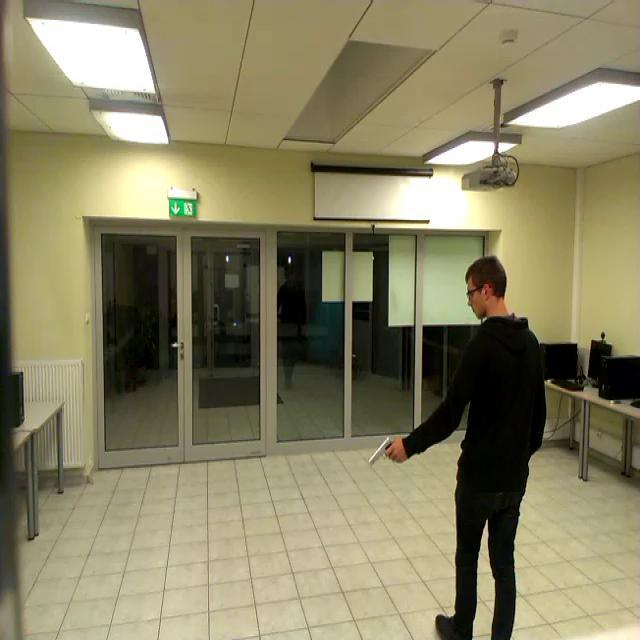Gun: (368, 436, 399, 464)
